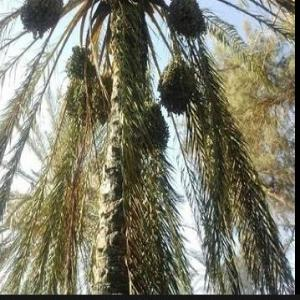palm tree: (0, 0, 294, 294)
